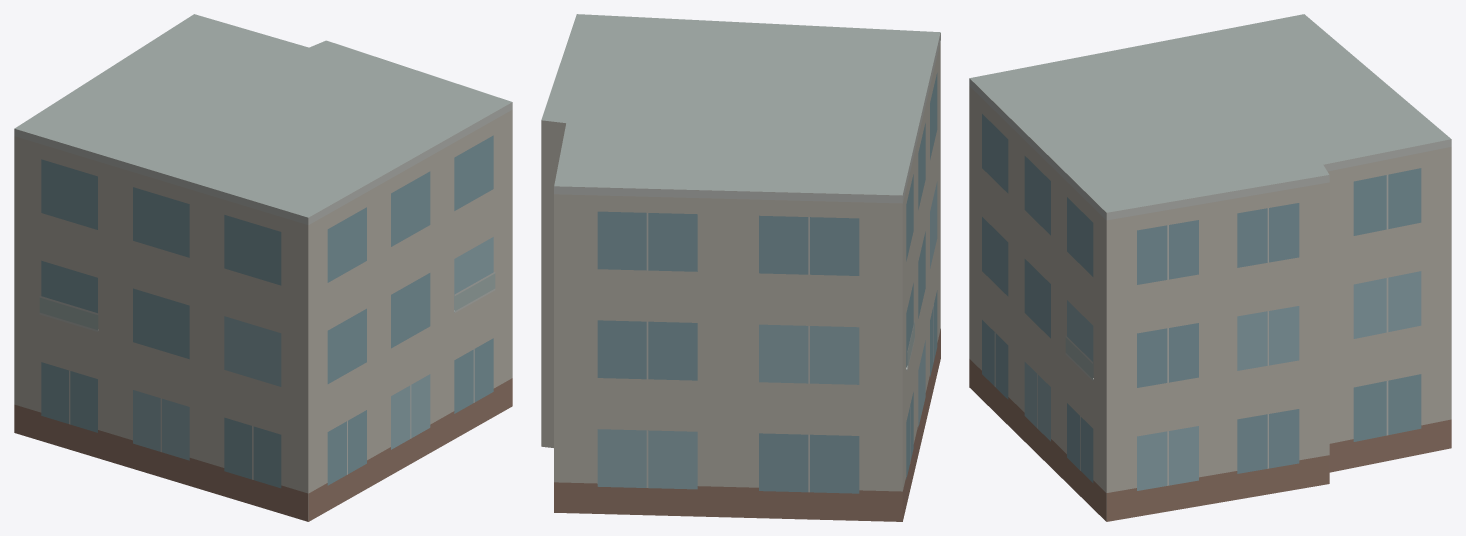
The model's file is survey-upis-32881678.glb.
The picture shows the model from 3 angles, left to right: view 1: azimuth 30°, elevation 25°; view 2: azimuth 150°, elevation 25°; view 3: azimuth 270°, elevation 25°; orthographic projection. The views are drawn at different scales.
Parts seen in each view (by area): view 1: survey-upis-32881678.tmp; view 2: survey-upis-32881678.tmp; view 3: survey-upis-32881678.tmp.
Part boxes in pixels (box(x1,y1,x2,y2)): survey-upis-32881678.tmp: box(14, 14, 512, 521); survey-upis-32881678.tmp: box(541, 14, 940, 521); survey-upis-32881678.tmp: box(969, 14, 1451, 521).
Size of the model in its own units: 13.67 by 9.9 by 14.01.
